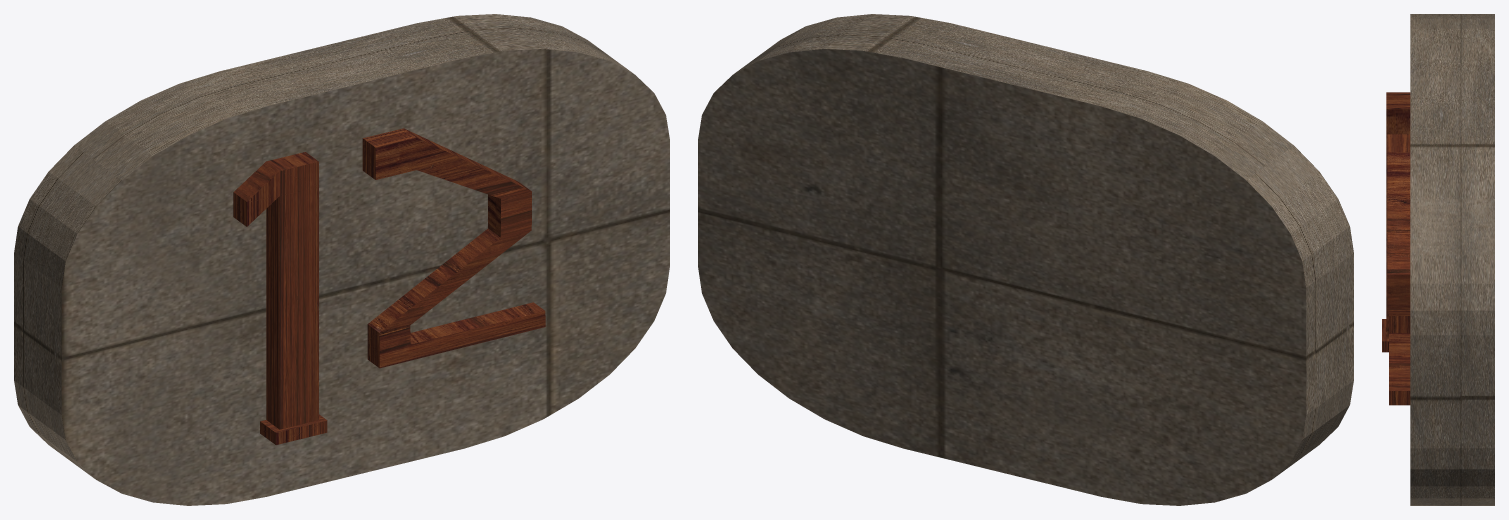
File: Norumah.fbx
3 renders of one model, left to right at view 1: azimuth 30°, elevation 25°; view 2: azimuth 150°, elevation 25°; view 3: azimuth 270°, elevation 25°, orthographic. The views are drawn at different scales.
Parts seen in each view (by area): view 1: No.rumah; view 2: No.rumah; view 3: No.rumah.
Boxes of the visible parts, box(x1,y1,x2,y2) form: No.rumah: box(14, 14, 669, 505); No.rumah: box(698, 14, 1353, 505); No.rumah: box(1382, 14, 1494, 505).
Size of the model in its own units: 44.1 by 27.05 by 7.98.
